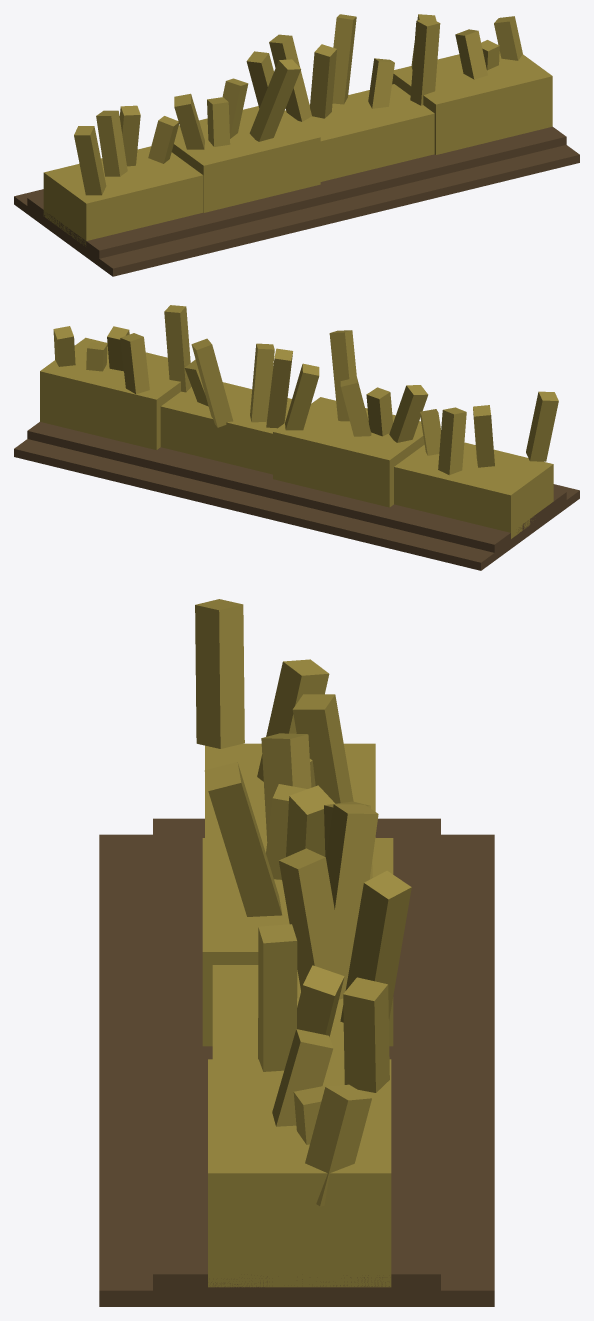
The model's file is crop_row.glb.
The picture shows the model from 3 angles, top to bottom: view 1: azimuth 30°, elevation 25°; view 2: azimuth 150°, elevation 25°; view 3: azimuth 270°, elevation 25°; orthographic projection. The views are drawn at different scales.
Visible parts, largest first — view 1: crop, dirt; view 2: crop, dirt; view 3: crop, dirt.
Part boxes in pixels (<box>): crop: <box>43,14,552,246</box>; dirt: <box>14,126,579,276</box>; crop: <box>40,305,558,538</box>; dirt: <box>14,422,579,570</box>; crop: <box>195,599,411,1287</box>; dirt: <box>99,818,494,1306</box>.
Size of the model in its own units: 61.38 by 17.49 by 22.
